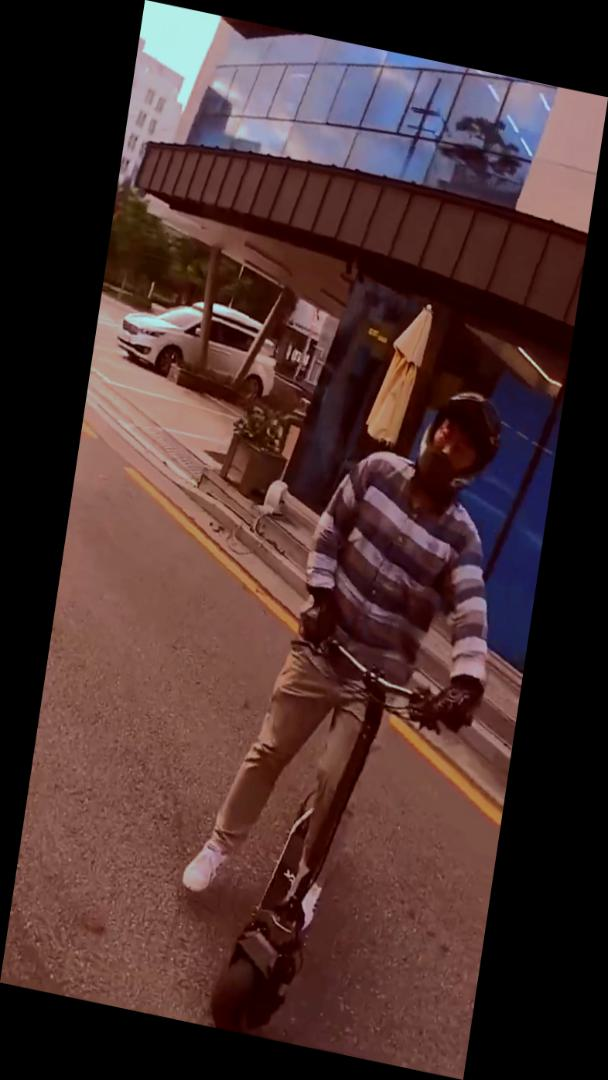helmet: (161, 342, 527, 1073)
